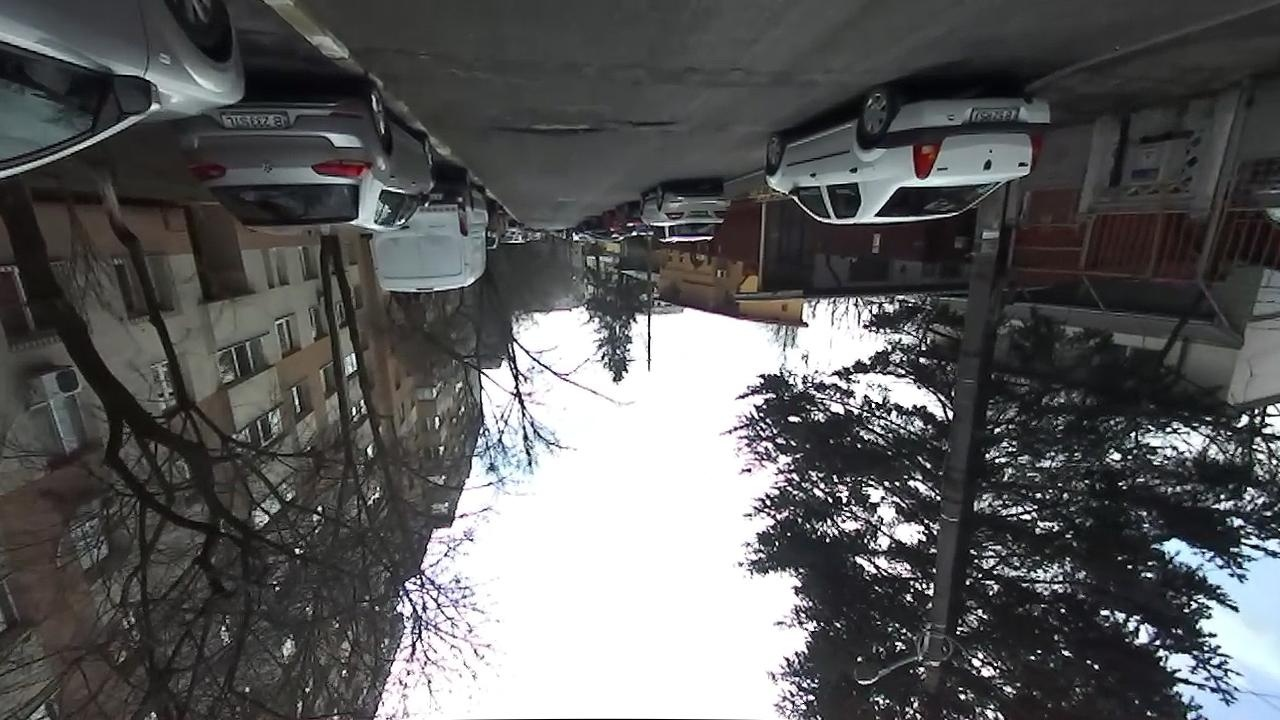pothole: (487, 116, 602, 139), (620, 116, 677, 129)
